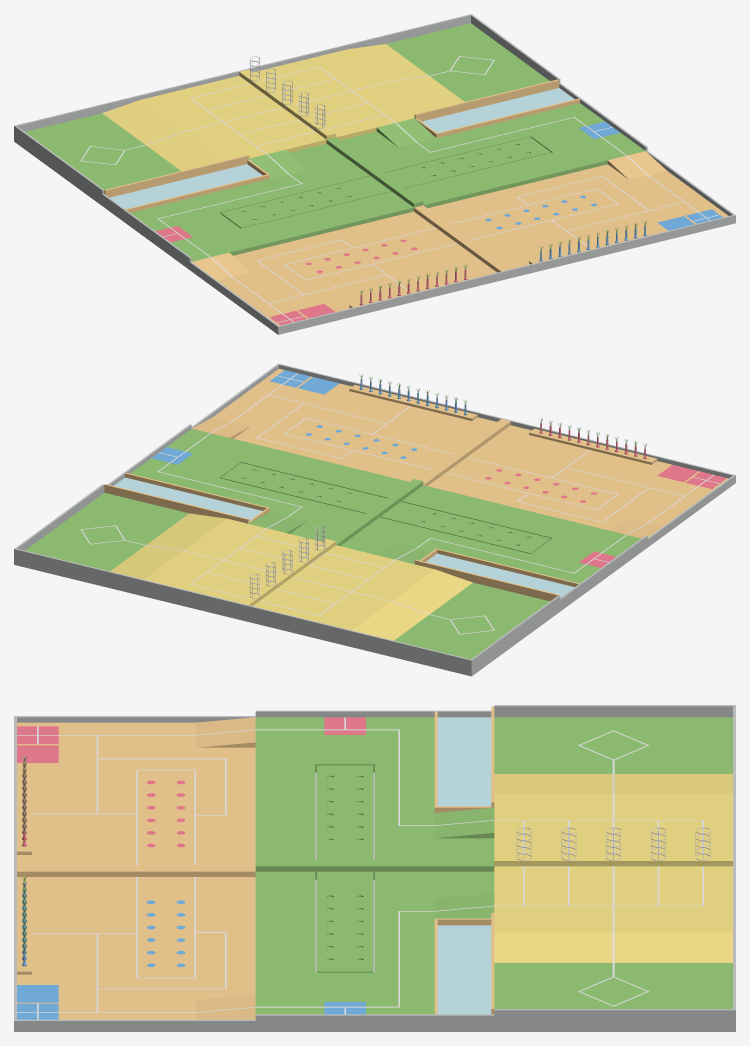
Rendered from field.fbx.
The picture shows the model from 3 angles, top to bottom: view 1: azimuth 30°, elevation 25°; view 2: azimuth 150°, elevation 25°; view 3: azimuth 270°, elevation 25°; orthographic projection. The views are drawn at different scales.
Visible parts, largest first — view 1: field2024; view 2: field2024; view 3: field2024.
Part boxes in pixels (x1,y1,x2,y2): field2024: (14, 14, 735, 334); field2024: (14, 363, 735, 676); field2024: (14, 705, 735, 1031).
Size of the model in its own units: 1210 by 90 by 1210.
